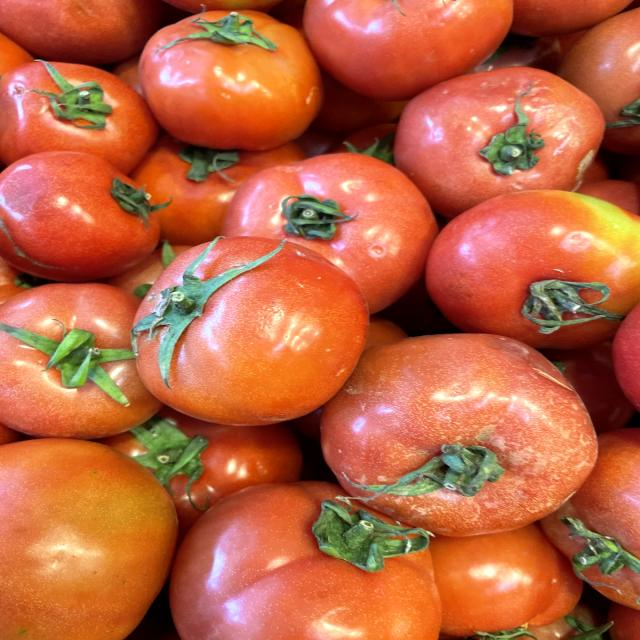tomato: (321, 317, 607, 541), (115, 228, 373, 423), (377, 51, 608, 208), (130, 6, 333, 152)
